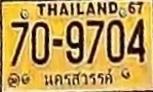0: (106, 19, 124, 62), (31, 21, 49, 64)
4: (127, 18, 144, 62)
7: (10, 21, 28, 65), (86, 19, 103, 63)
9: (65, 20, 83, 63)
NSN: (44, 68, 114, 88)
